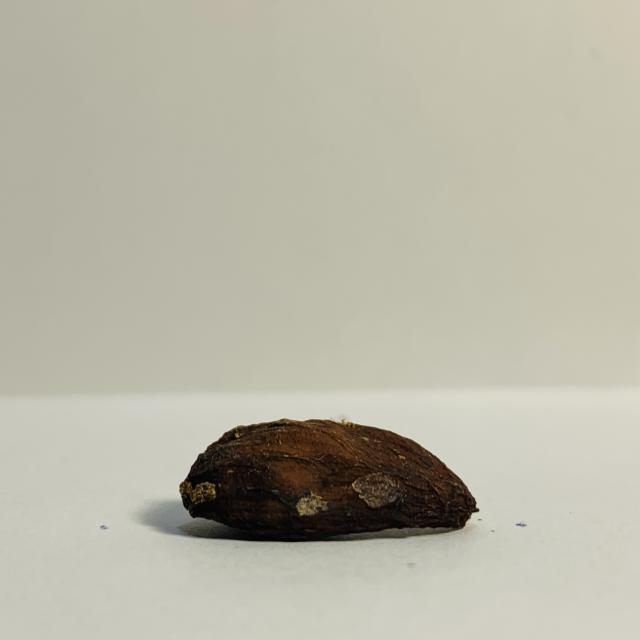Flat_cocoabeans: (126, 400, 488, 564)
